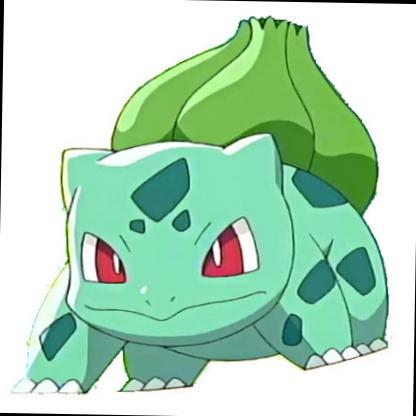Bulbasaur: (1, 5, 416, 416)
